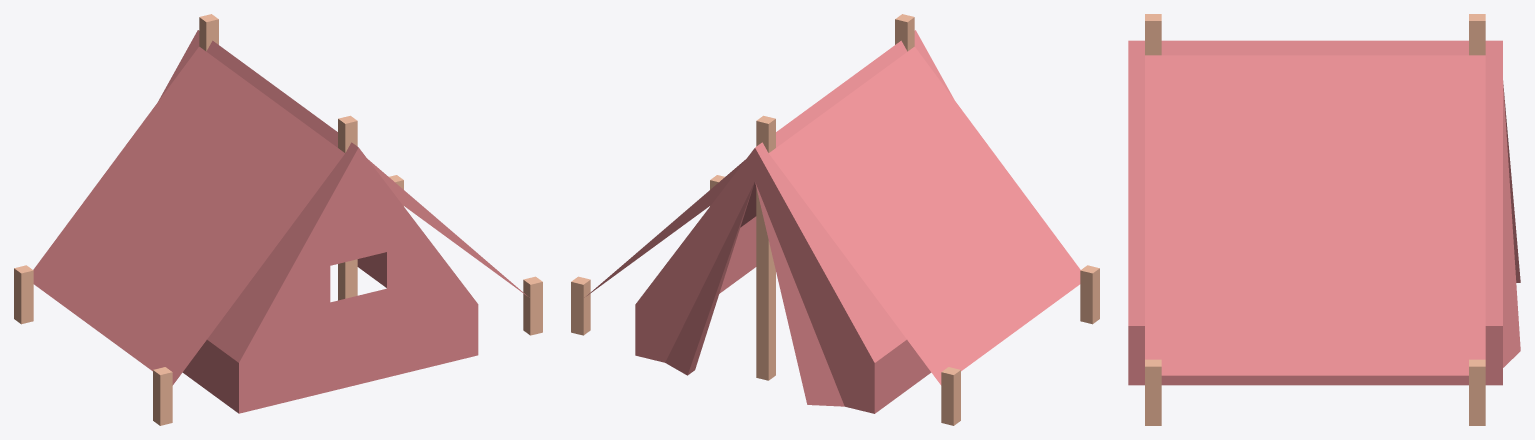
Rendered from tent.glb.
3 renders of one model, left to right at view 1: azimuth 30°, elevation 25°; view 2: azimuth 150°, elevation 25°; view 3: azimuth 270°, elevation 25°, orthographic. The views are drawn at different scales.
Parts seen in each view (by area): view 1: tent_detailedOpen; view 2: tent_detailedOpen; view 3: tent_detailedOpen.
Part boxes in pixels (x1,y1,x2,y2): tent_detailedOpen: [14, 14, 542, 425]; tent_detailedOpen: [571, 14, 1099, 425]; tent_detailedOpen: [1128, 14, 1520, 425].
Size of the model in its own units: 0.8749 by 0.5611 by 0.6664.
